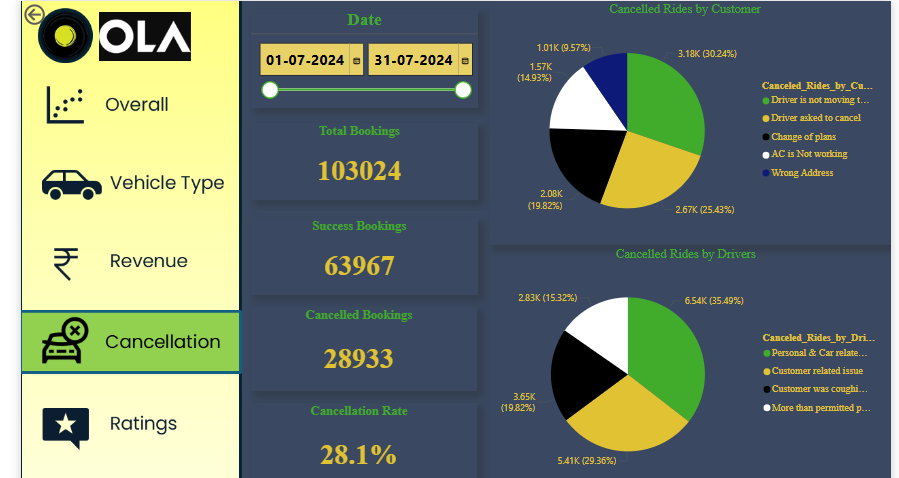

Layout of this report page (visuals, bound fields, positions):
{"tool":"powerbi","page":{"name":"Cancellation","canvas":[1280,720],"ordinal":3},"visuals":[{"type":"actionButton","box":[0,574.5,323.3,94],"z":0},{"type":"actionButton","box":[0,224.8,323.3,94],"z":1000},{"type":"actionButton","box":[0,333.6,323.3,94],"z":2000},{"type":"actionButton","box":[0,110.2,323.3,94],"z":3000},{"type":"pieChart","title":"Cancelled Rides by Customer","fields":{"Category":["July.Canceled_Rides_by_Customer"],"Y":["CountNonNull(July.Canceled_Rides_by_Customer)"]},"box":[688.7,0,591.3,359.5],"z":4000},{"type":"pieChart","title":"Cancelled Rides by Drivers","fields":{"Category":["July.Canceled_Rides_by_Driver"],"Y":["CountNonNull(July.Canceled_Rides_by_Driver)"]},"box":[689.1,360,590.7,355.6],"z":5000},{"type":"slicer","title":"Date","fields":{"Values":["July.Date"]},"box":[338,11.8,333.6,145.5],"z":6000},{"type":"card","title":"Total Bookings","fields":{"Values":["Count(July.Booking_ID)"]},"box":[338,179.3,333.6,113.1],"z":7000},{"type":"card","title":"Success Bookings","fields":{"Values":["Count(July.Booking_ID)"]},"box":[338,318.9,333.6,113.1],"z":8000},{"type":"card","title":"Cancelled Bookings","fields":{"Values":["Count(July.Booking_ID)"]},"box":[338.1,449.6,332.5,124.5],"z":9000},{"type":"actionButton","box":[0,0,100,40],"z":10000},{"type":"card","title":"Cancellation Rate","fields":{"Values":["July.CanceledPercentage"]},"box":[338.1,590.8,332.5,124.5],"z":11000}]}

Visuals, with their boxes on the page's 1280x720 design canvas (x1, y1, x2, y2). These are canvas units, not pixel positions in the 899x478 screenshot, which may show the page scaled, cropped or inside an application window:
actionButton: x1=0 y1=574 x2=323 y2=668
actionButton: x1=0 y1=225 x2=323 y2=319
actionButton: x1=0 y1=334 x2=323 y2=428
actionButton: x1=0 y1=110 x2=323 y2=204
"Cancelled Rides by Customer" pieChart: x1=689 y1=0 x2=1280 y2=360
"Cancelled Rides by Drivers" pieChart: x1=689 y1=360 x2=1280 y2=716
"Date" slicer: x1=338 y1=12 x2=672 y2=157
"Total Bookings" card: x1=338 y1=179 x2=672 y2=292
"Success Bookings" card: x1=338 y1=319 x2=672 y2=432
"Cancelled Bookings" card: x1=338 y1=450 x2=671 y2=574
actionButton: x1=0 y1=0 x2=100 y2=40
"Cancellation Rate" card: x1=338 y1=591 x2=671 y2=715
